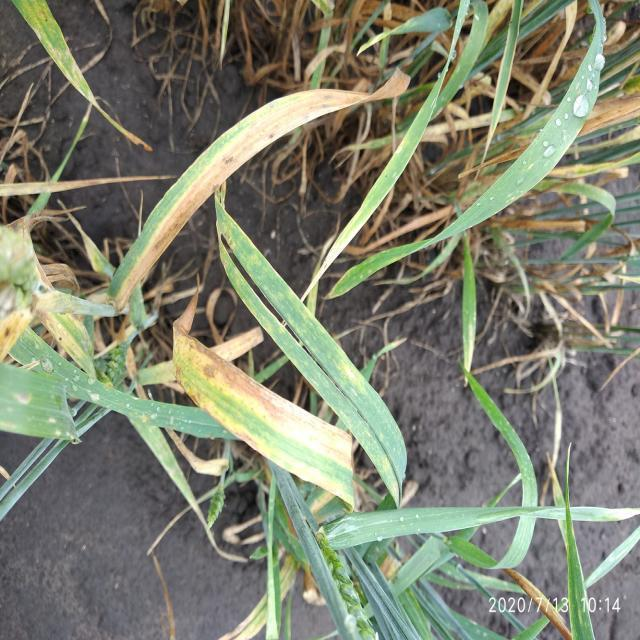Septoria: (86, 84, 406, 311), (170, 333, 361, 513), (7, 0, 114, 123)
